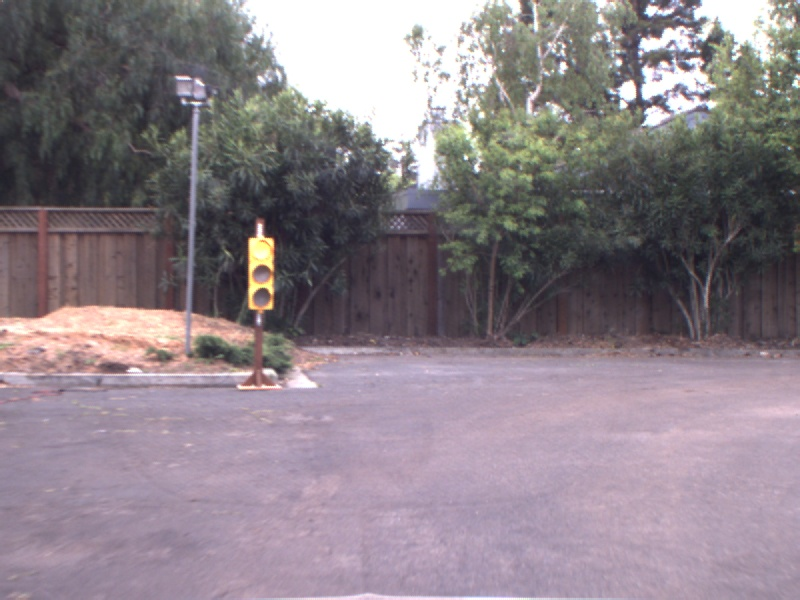red: (243, 226, 280, 318)
